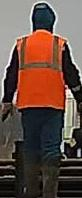gloves: (1, 102, 12, 122), (77, 100, 82, 117)
vest: (11, 31, 66, 110)
